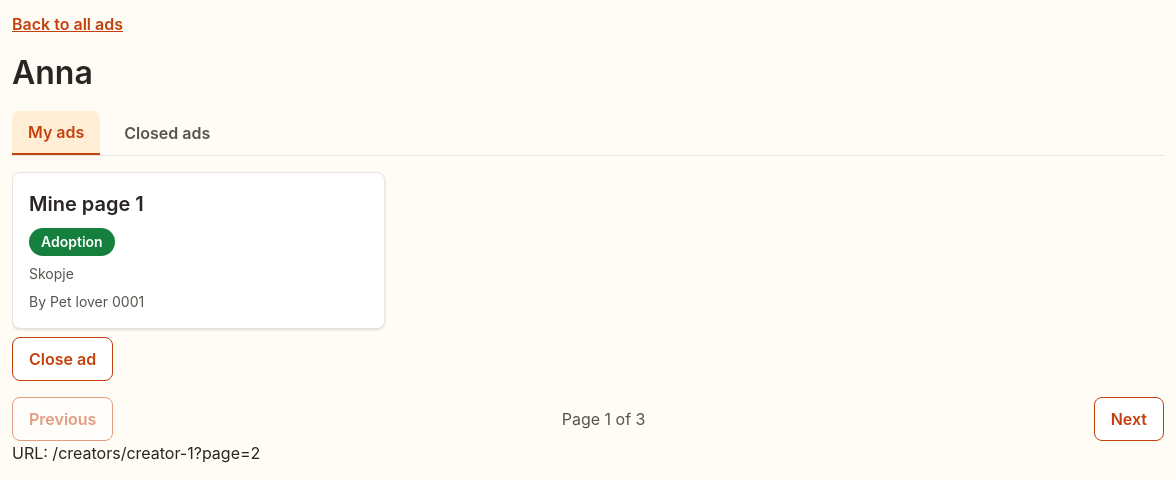
Test: CreatorProfilePage › own profile › keeps the public page key when the owner pages through My ads
This screenshot has width=1176, height=480.
Click the button "Next" at [1129, 419], box x1=1094 y1=397 x2=1164 y2=441
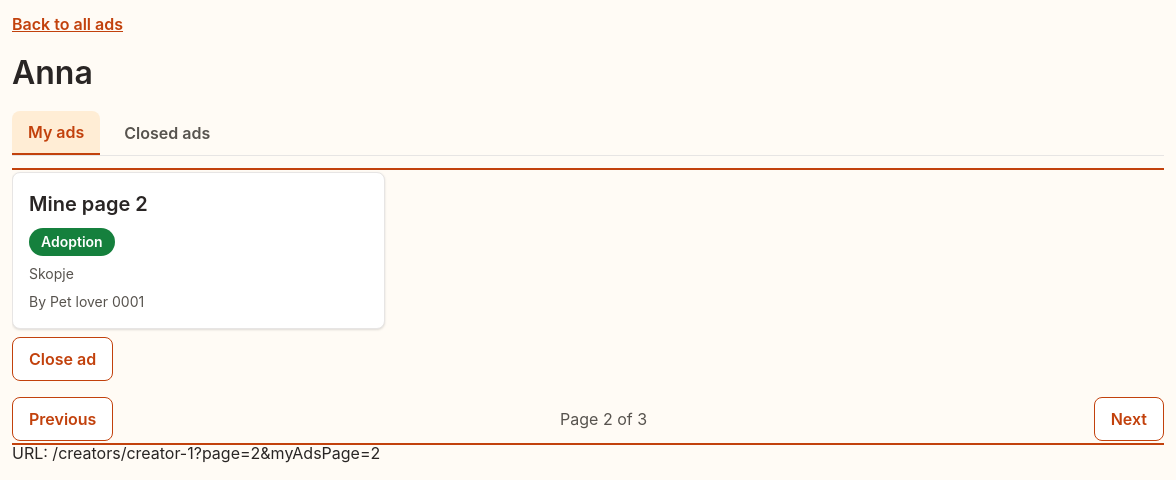
Now the heading "Mine page 2" is shown, box x1=29 y1=192 x2=148 y2=216
Now the text "URL: /creators/creator-1?page=2&myAdsPage=2" is shown, box x1=12 y1=443 x2=380 y2=463
